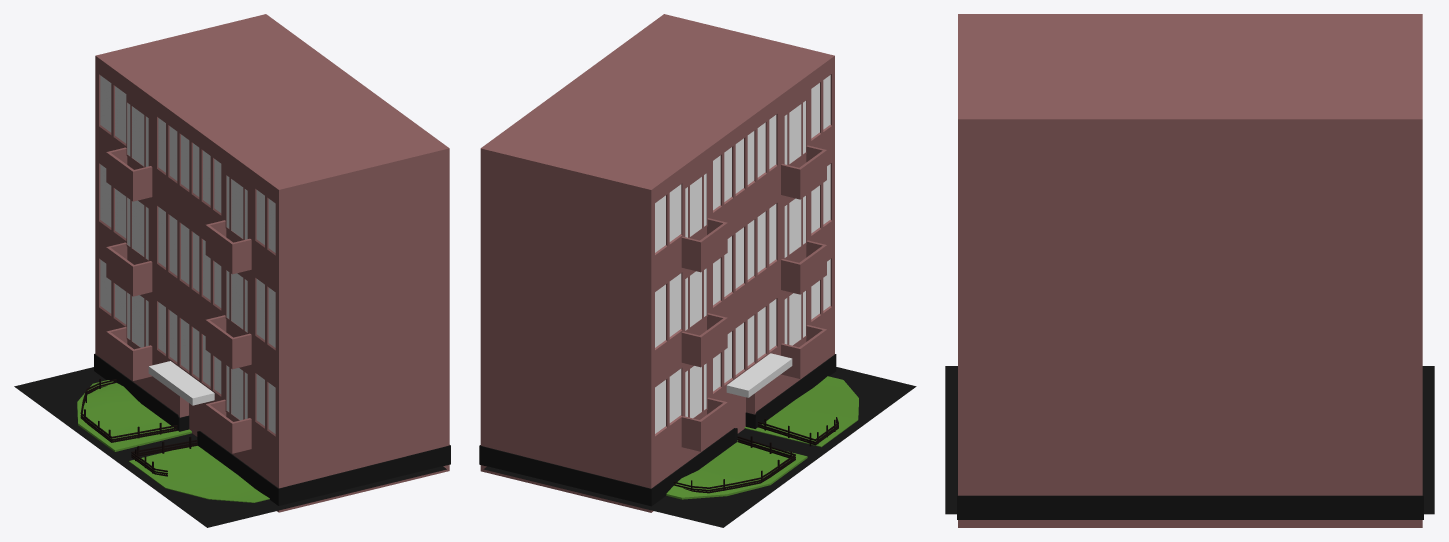
The model's file is Building_2.fbx.
3 views of the same model, side by side, from view 1: azimuth 30°, elevation 25°; view 2: azimuth 150°, elevation 25°; view 3: azimuth 270°, elevation 25° (orthographic). The views are drawn at different scales.
Parts seen in each view (by area): view 1: Box014, Object005, Box025, Box024, Box023, Box015; view 2: Box014, Object005, Box025, Box024, Box023, Box015; view 3: Box014, Object005.
Boxes of the visible parts, <box> form: Box014: <box>94,14,450,512</box>; Object005: <box>14,367,446,527</box>; Box025: <box>129,446,269,502</box>; Box024: <box>77,380,191,451</box>; Box023: <box>80,378,197,476</box>; Box015: <box>148,361,214,405</box>; Box014: <box>479,14,836,512</box>; Object005: <box>483,367,916,527</box>; Box025: <box>744,376,858,447</box>; Box024: <box>666,440,807,499</box>; Box023: <box>673,417,838,493</box>; Box015: <box>726,353,792,397</box>; Box014: <box>957,14,1423,527</box>; Object005: <box>945,366,1434,514</box>.
Bounding box in the file's own units: 593 × 737 × 800.
